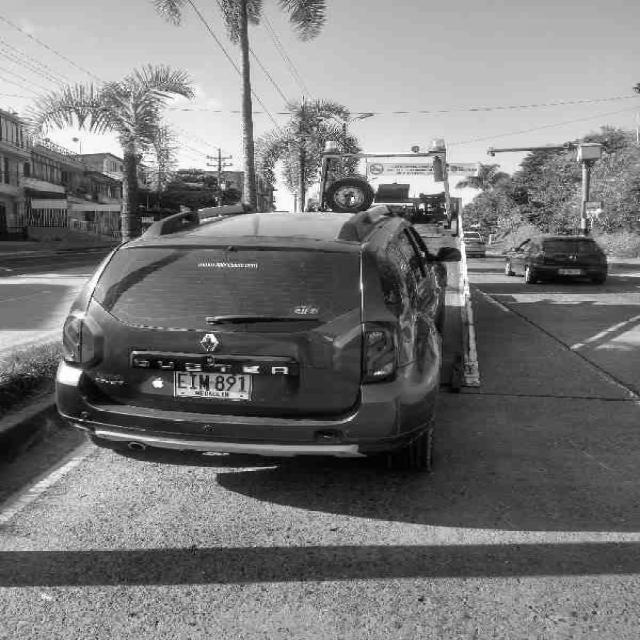plate: (167, 366, 256, 407)
